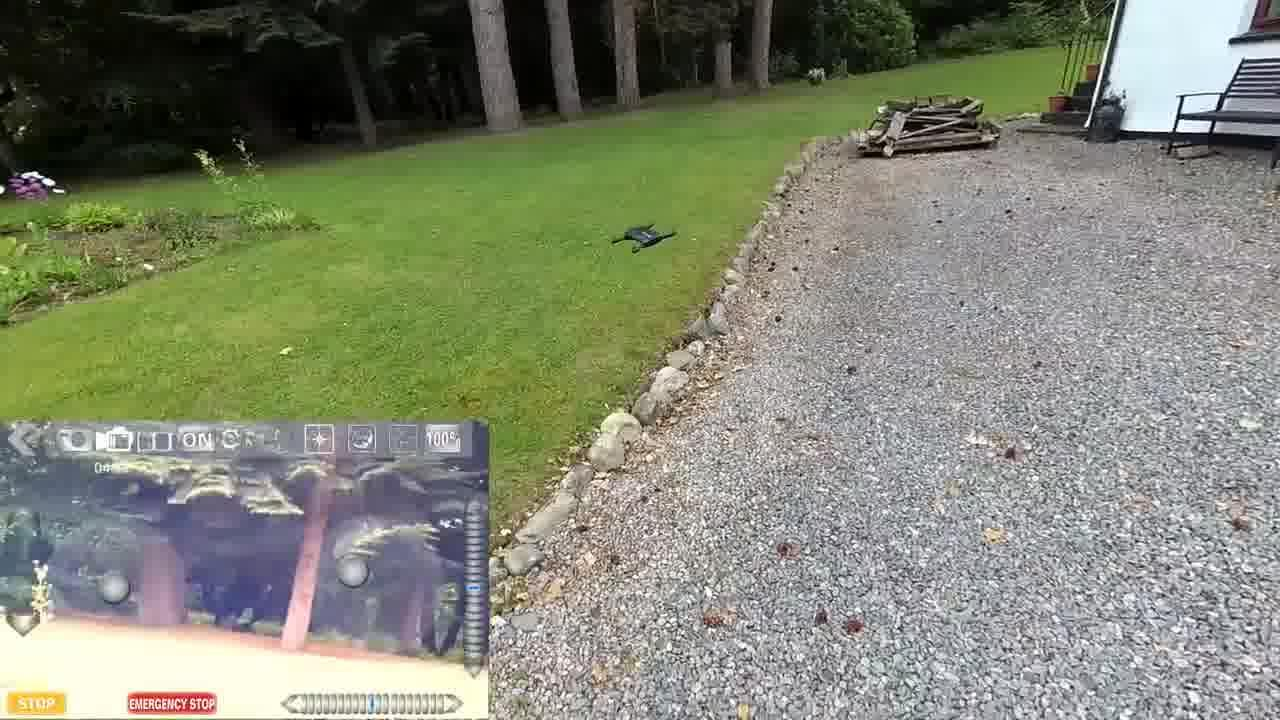drone: (596, 208, 688, 264)
